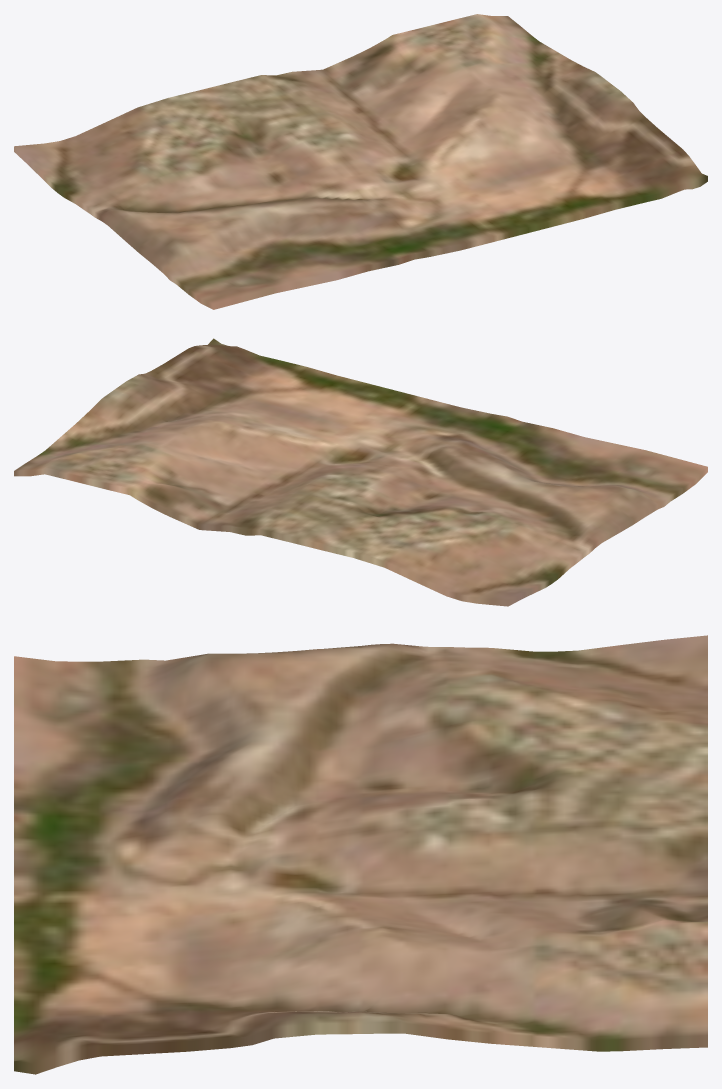
File: terrain_r5_c3_lod2.glb
The picture shows the model from 3 angles, top to bottom: view 1: azimuth 30°, elevation 25°; view 2: azimuth 150°, elevation 25°; view 3: azimuth 270°, elevation 25°; orthographic projection. The views are drawn at different scales.
Visible parts, largest first — view 1: terrain_r5_c3_lod2; view 2: terrain_r5_c3_lod2; view 3: terrain_r5_c3_lod2.
Part boxes in pixels (x1,y1,x2,y2): terrain_r5_c3_lod2: [14, 14, 707, 309]; terrain_r5_c3_lod2: [14, 338, 707, 606]; terrain_r5_c3_lod2: [14, 635, 707, 1074].
Bounding box in the file's own units: 1125 × 86.52 × 787.
Materials: 1 (1 with a texture image).
